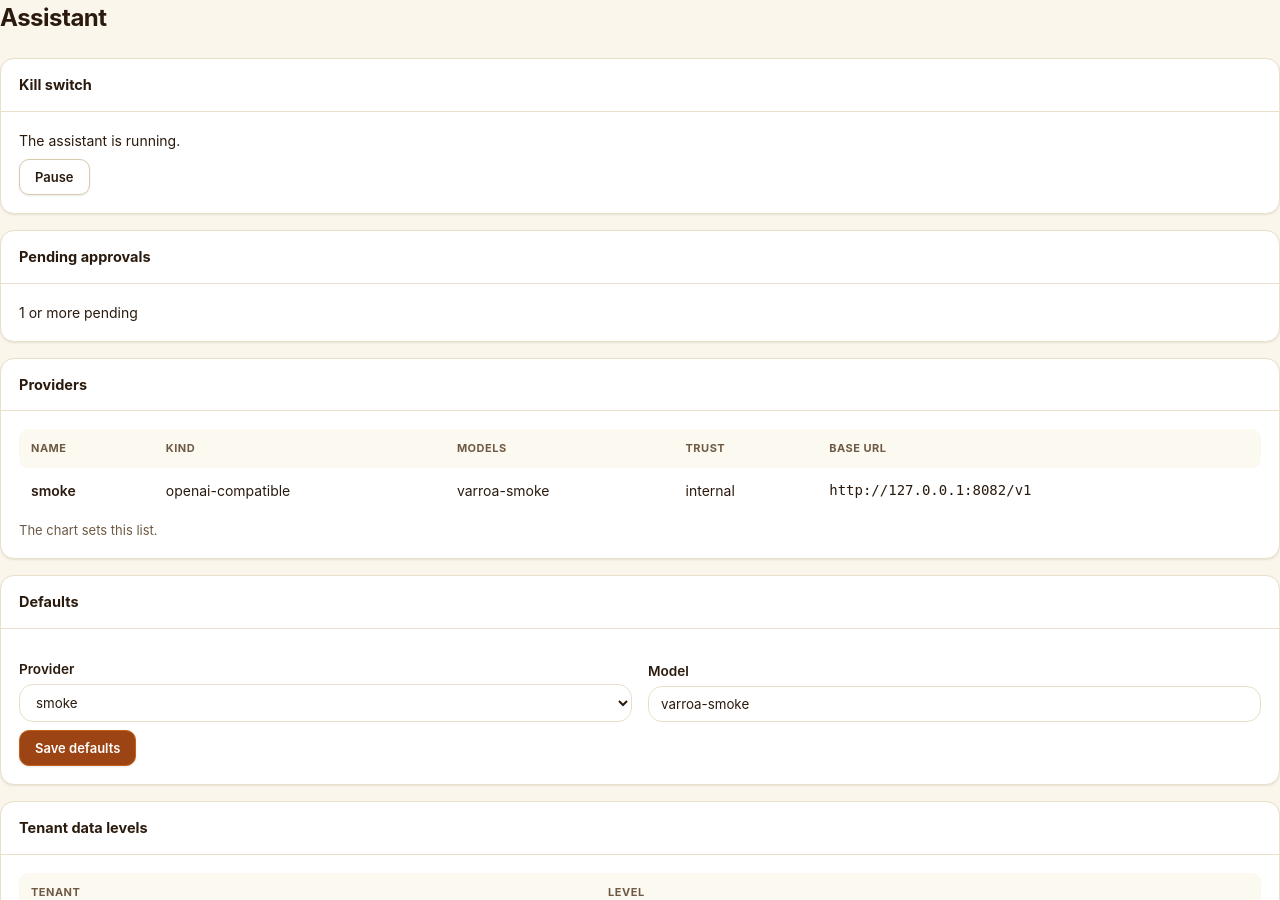
Test case: AssistantAdmin › names a refused change
What coordinates should you click on to do the following:
click the button "Save defaults"
I would click on:
 (78, 748)
Its box is [19, 730, 136, 766].
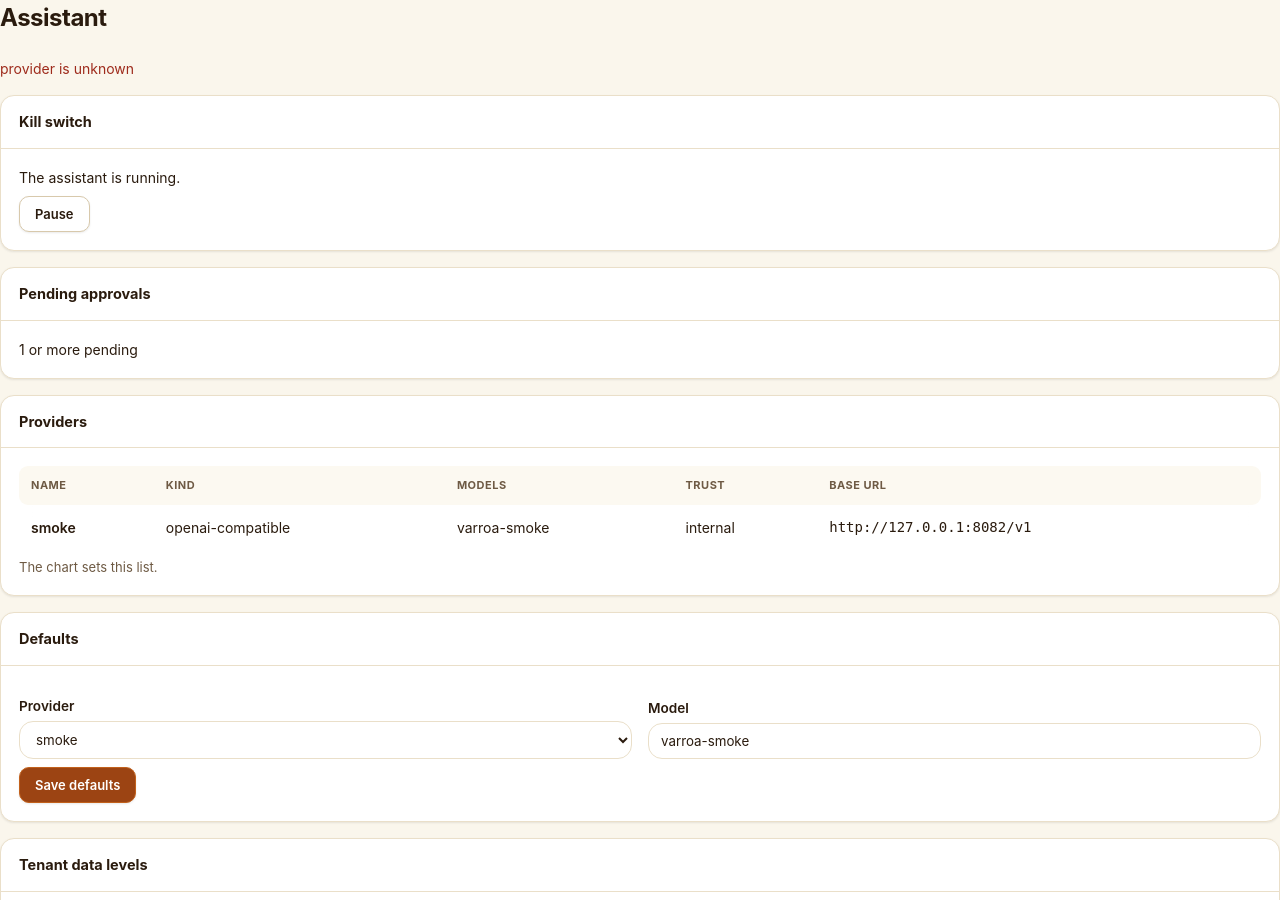
Expected: the text "provider is unknown" is shown, [0, 60, 134, 77]
